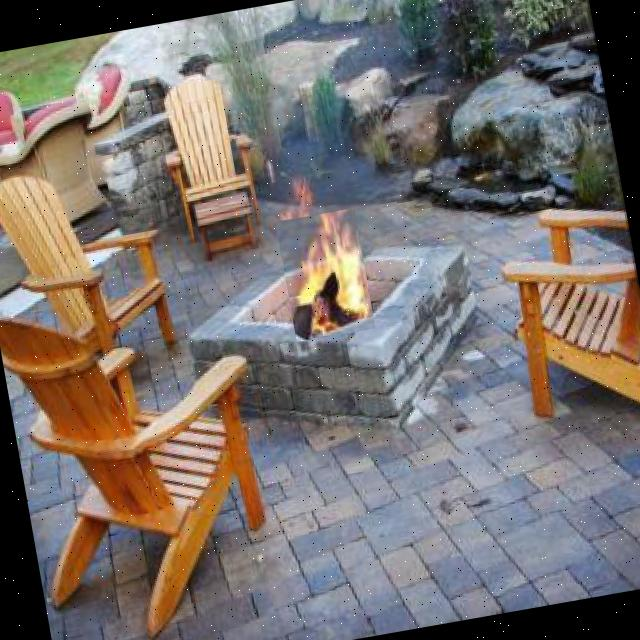fire: (275, 208, 375, 342)
